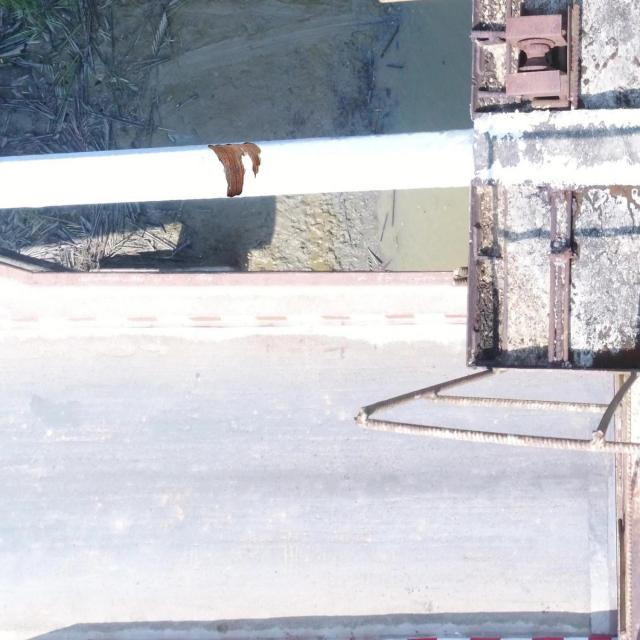corrosion: (207, 143, 262, 197)
